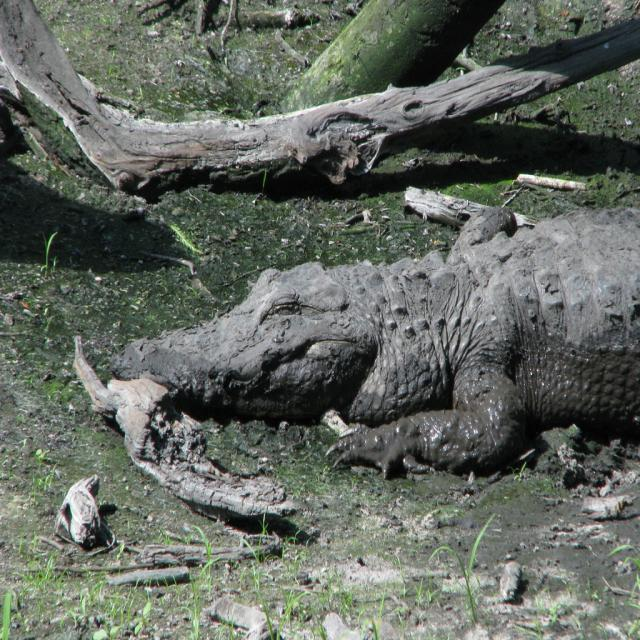crocodile: (117, 201, 639, 483)
